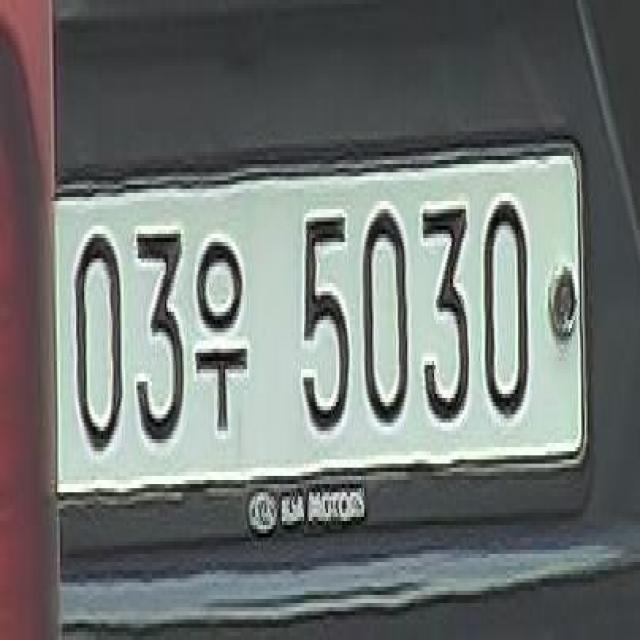illegal_plate: (59, 136, 596, 559)
